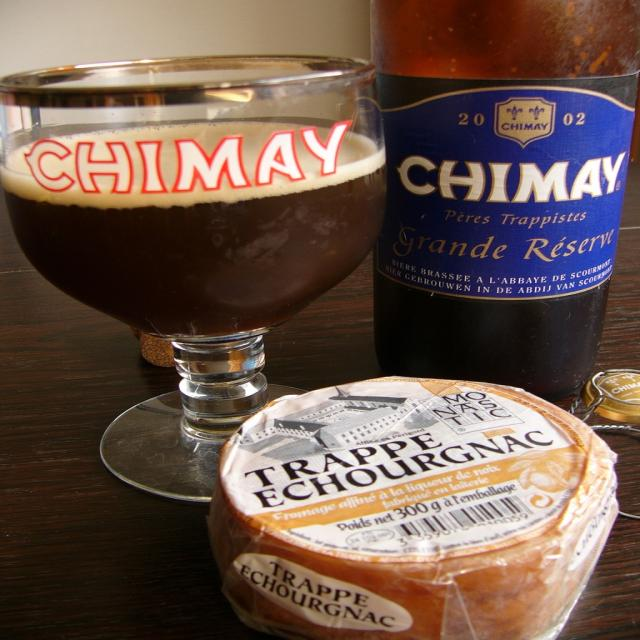chimay: (375, 86, 637, 302), (21, 116, 359, 199)
